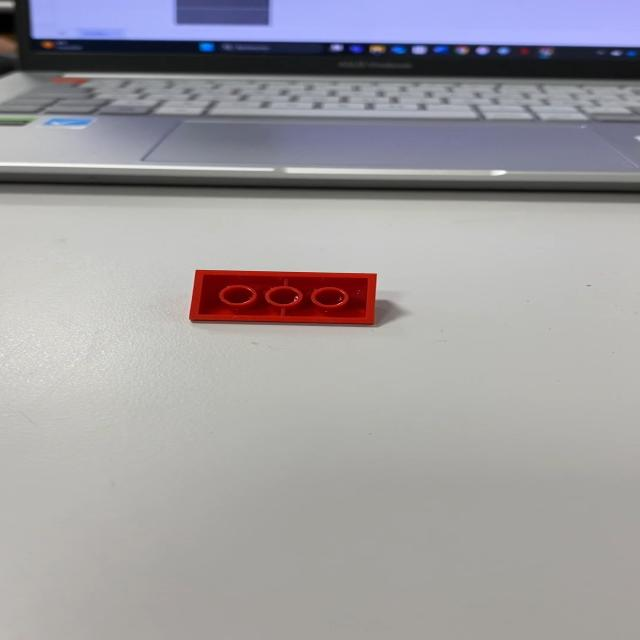P4x2x1: (188, 269, 377, 326)
